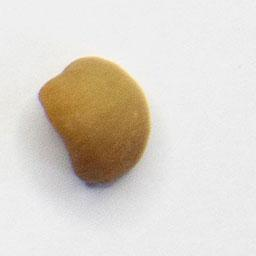defect: (33, 51, 155, 190)
